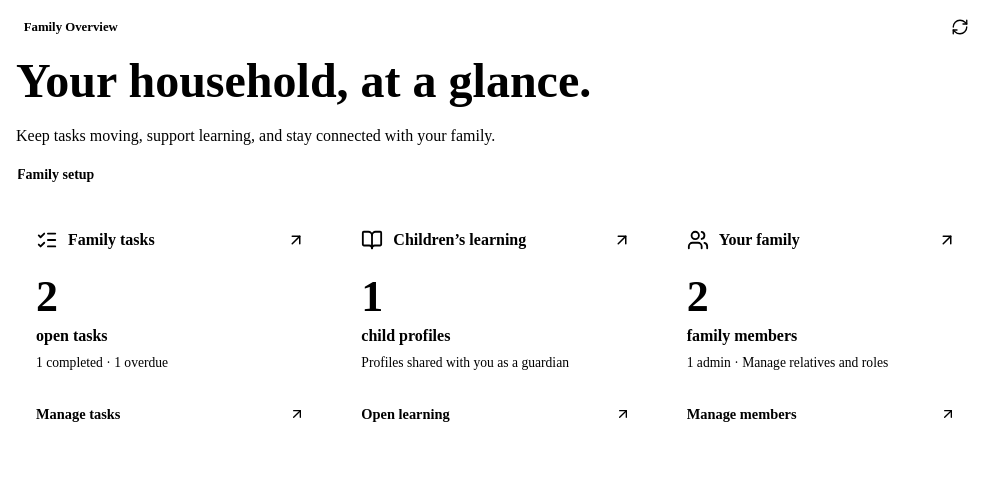
shows an empty-family state without querying family-scoped data
Expected: the text "1 completed · 1 overdue" is shown, [36,355,168,370]
Click the button named "Refresh household stats" at {"x": 960, "y": 27}, box [944,16,976,38]
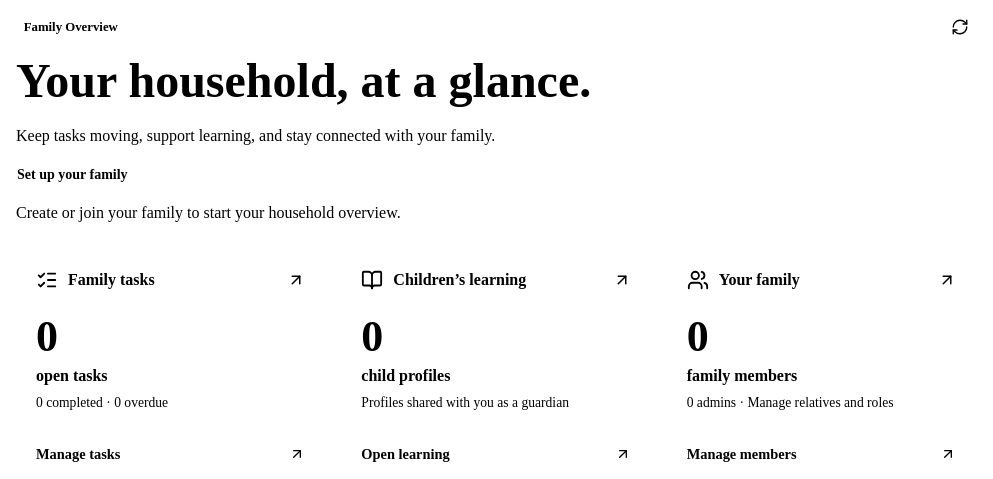
Expected: the text "Create or join your family to start your household overview." is shown, [16,204,401,221]
Expected: the 1st text "0" is shown, [36,312,58,361]
